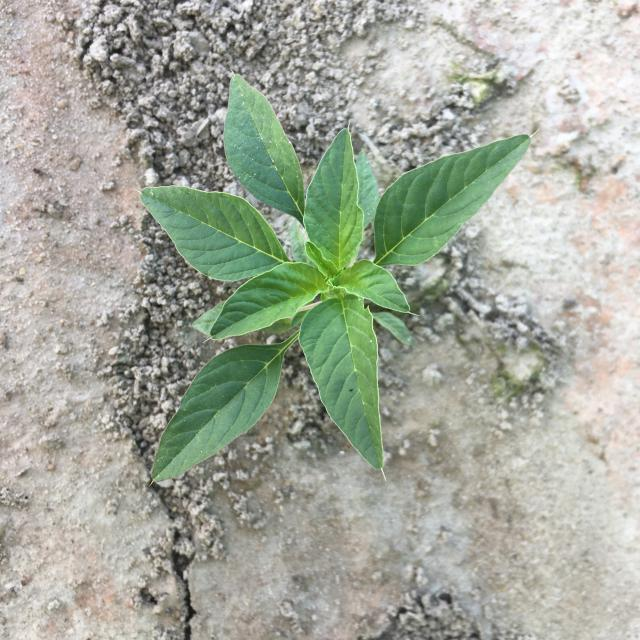PalmerAmaranth: (139, 73, 533, 483)
